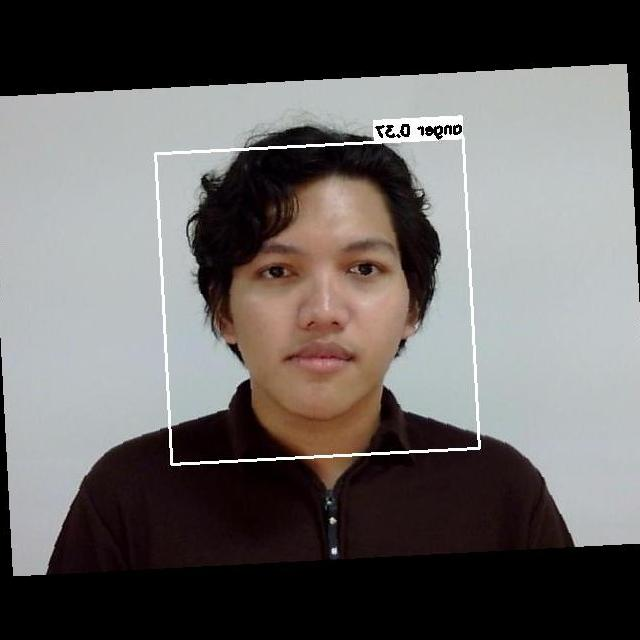Natural: (223, 223, 415, 411)
